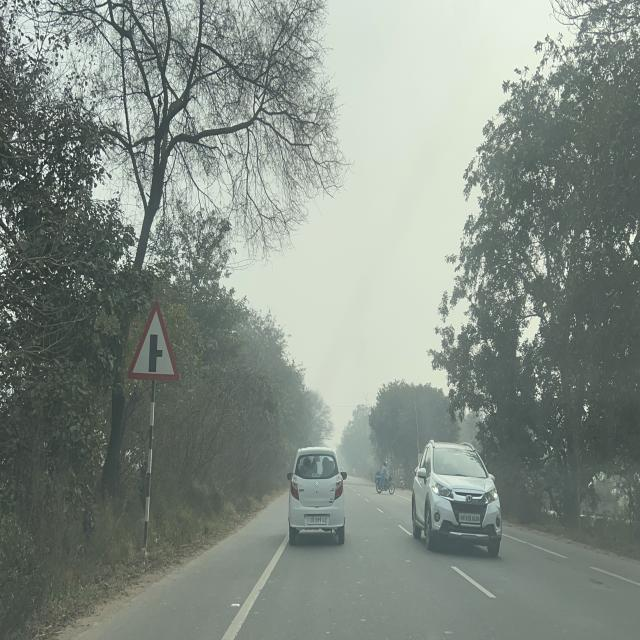SIDE_ROAD_RIGHT: (128, 298, 180, 385)
